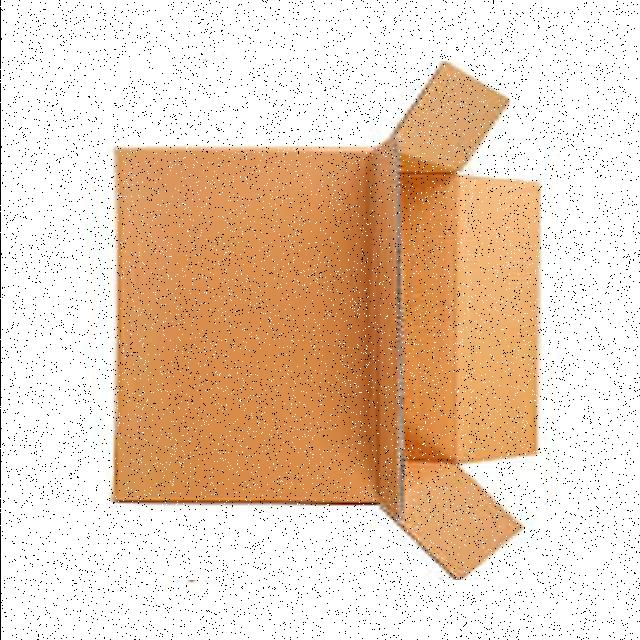defect: (105, 61, 543, 580)
